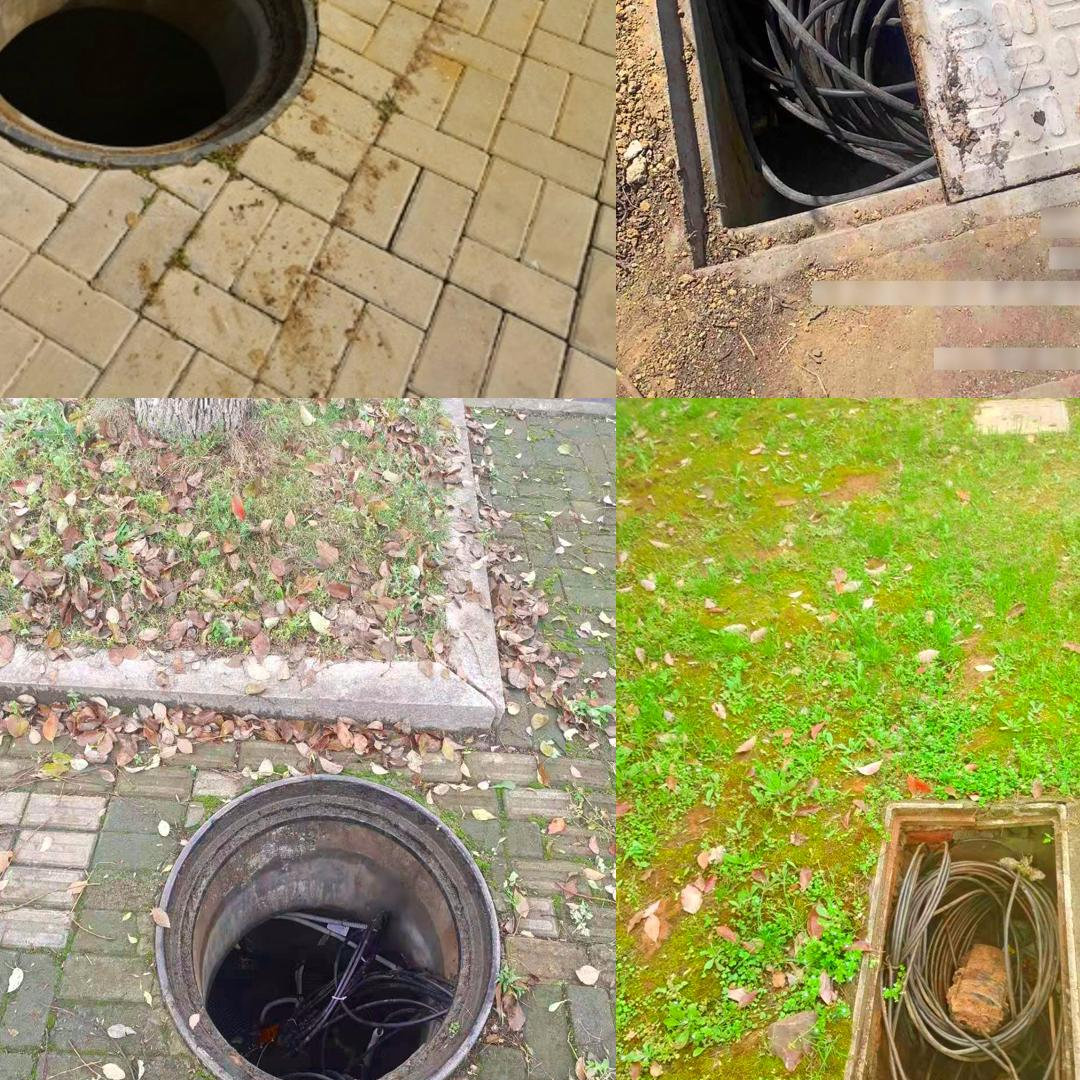lose: (631, 0, 1080, 276), (154, 773, 496, 1080), (831, 798, 1080, 1080), (0, 0, 316, 170)
